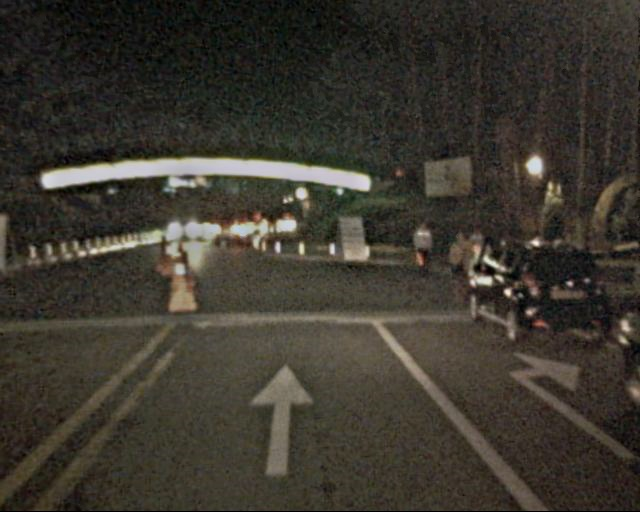person: (447, 233, 473, 296), (411, 220, 435, 279), (468, 229, 490, 282)
